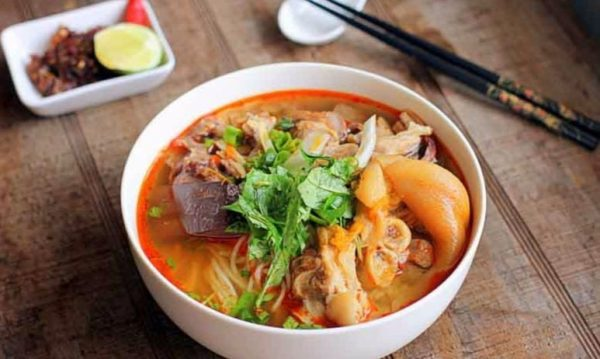pork: (366, 156, 468, 279), (297, 228, 378, 317), (179, 116, 243, 181)
vegetable: (252, 158, 335, 227)
